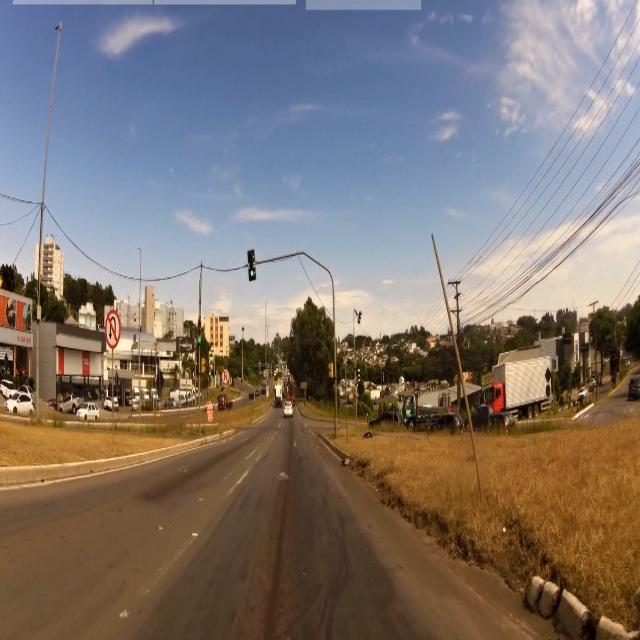R-5a: (104, 307, 121, 351)
